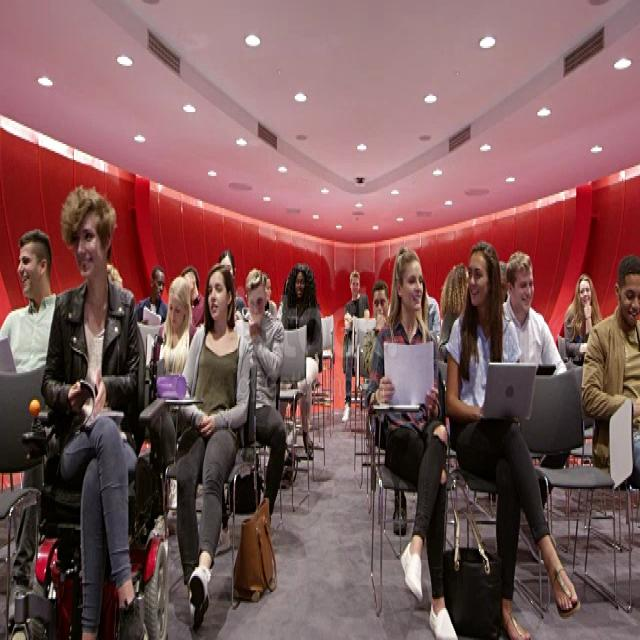Attentive: (513, 262, 534, 315), (578, 276, 594, 310), (350, 270, 361, 298), (296, 267, 305, 299)
Distracted: (70, 196, 108, 282), (17, 240, 50, 296), (466, 244, 493, 312), (399, 252, 426, 316), (207, 268, 230, 330), (620, 261, 640, 330), (247, 276, 269, 329), (169, 286, 187, 332), (372, 280, 388, 325), (153, 265, 166, 304)
